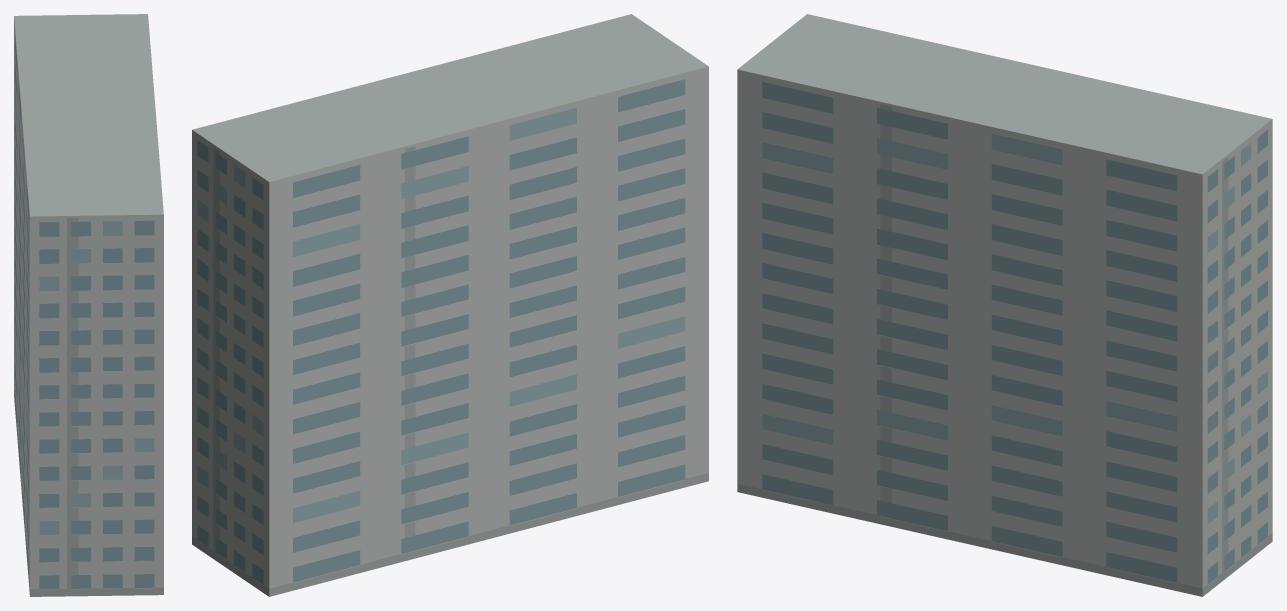
The model's file is residential-5dbbc64a-983e-4d0d-a7f8-cb4b1ba43542.glb.
3 views of the same model, side by side, from view 1: azimuth 30°, elevation 25°; view 2: azimuth 150°, elevation 25°; view 3: azimuth 270°, elevation 25° (orthographic). The views are drawn at different scales.
Visible parts, largest first — view 1: residential-5dbbc64a-983e-4d0d-a7f8-cb4b1ba43542.tmp; view 2: residential-5dbbc64a-983e-4d0d-a7f8-cb4b1ba43542.tmp; view 3: residential-5dbbc64a-983e-4d0d-a7f8-cb4b1ba43542.tmp.
Part boxes in pixels (x1,y1,x2,y2): residential-5dbbc64a-983e-4d0d-a7f8-cb4b1ba43542.tmp: (14,14,163,596); residential-5dbbc64a-983e-4d0d-a7f8-cb4b1ba43542.tmp: (192,14,708,596); residential-5dbbc64a-983e-4d0d-a7f8-cb4b1ba43542.tmp: (737,14,1272,596).
Bounding box in the file's own units: 34.78 × 42.7 × 49.06.
